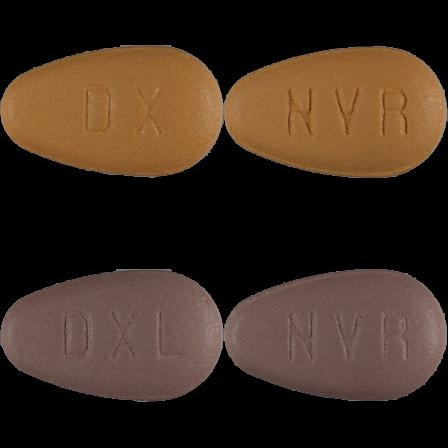0078-0359: (0, 0, 224, 224)
